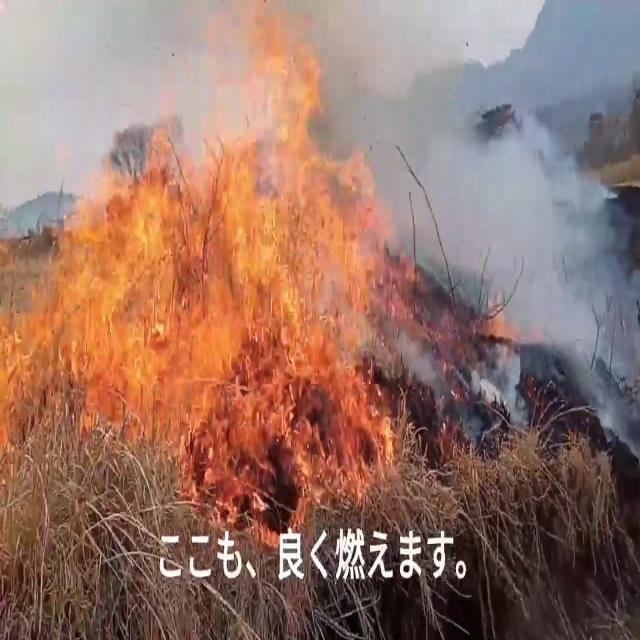Fire: (3, 21, 423, 521)
Smoke: (334, 1, 640, 437)
